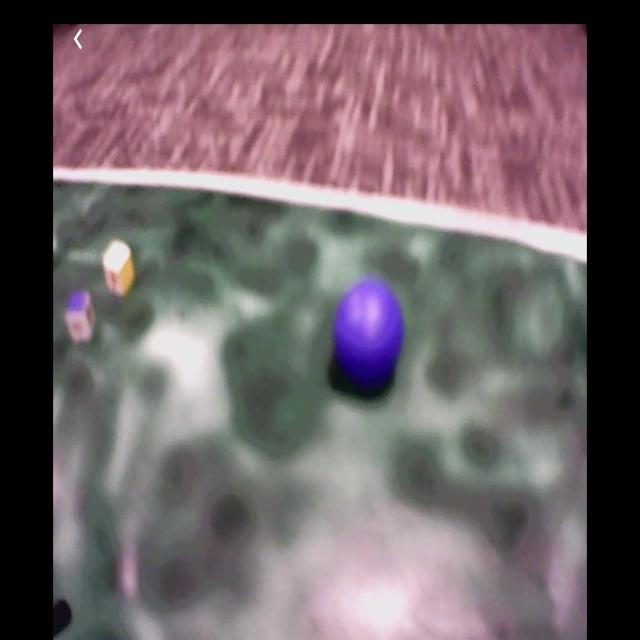ball: (335, 281, 402, 393)
